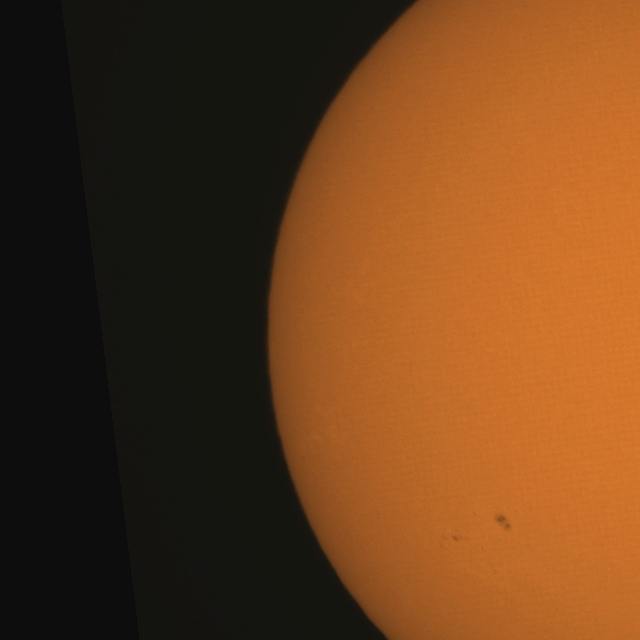sunspot: (494, 513, 512, 532)
